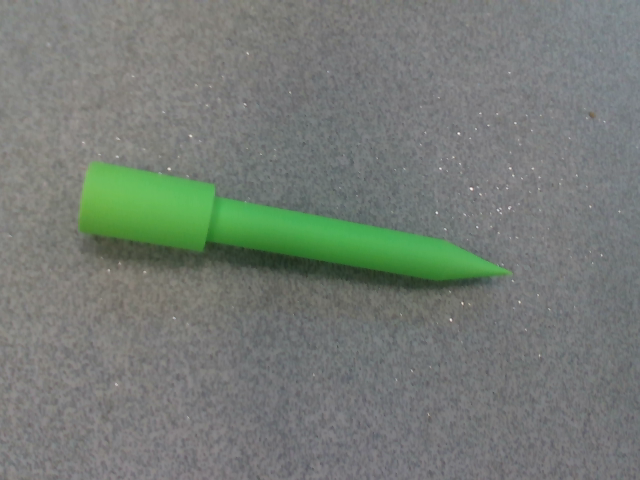Probe: (67, 156, 521, 293)
